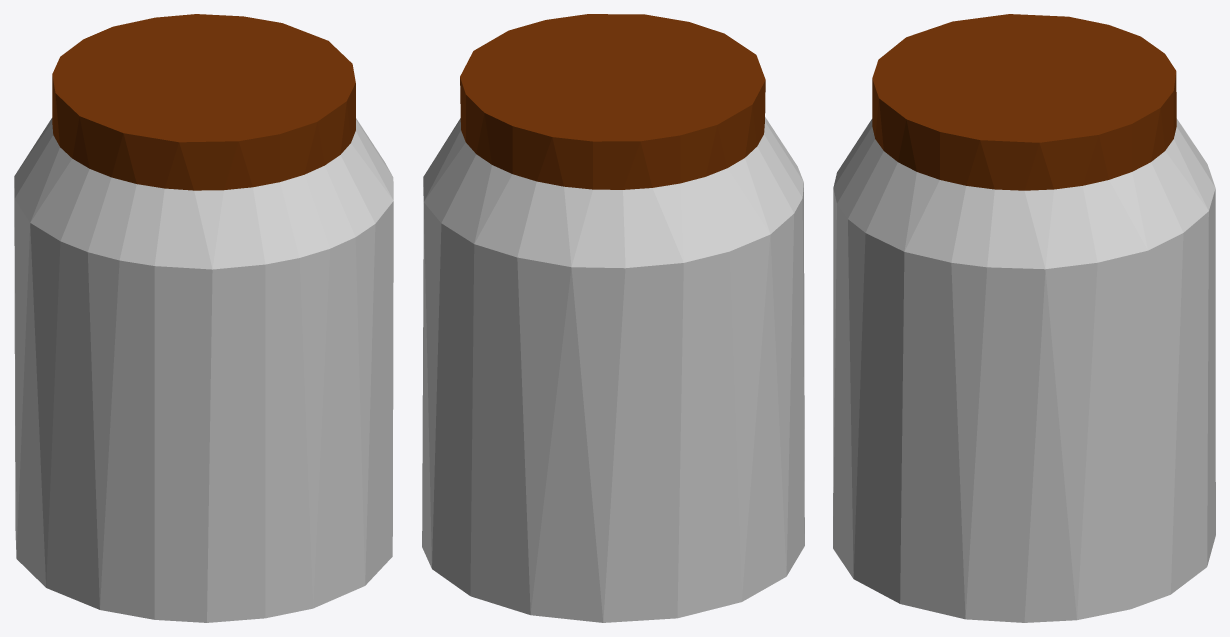
Rendered from Jar_1.fbx.
3 views of the same model, side by side, from view 1: azimuth 30°, elevation 25°; view 2: azimuth 150°, elevation 25°; view 3: azimuth 270°, elevation 25° (orthographic).
Visible parts, largest first — view 1: Jar, Lid; view 2: Jar, Lid; view 3: Jar, Lid.
Boxes of the visible parts, x1,y1,x2,y2 form: Jar: [14, 118, 393, 622]; Lid: [52, 14, 355, 190]; Jar: [422, 117, 804, 622]; Lid: [460, 14, 765, 189]; Jar: [833, 118, 1215, 622]; Lid: [872, 14, 1176, 190].
Size of the model in its own units: 36.03 by 48.2 by 36.05.
